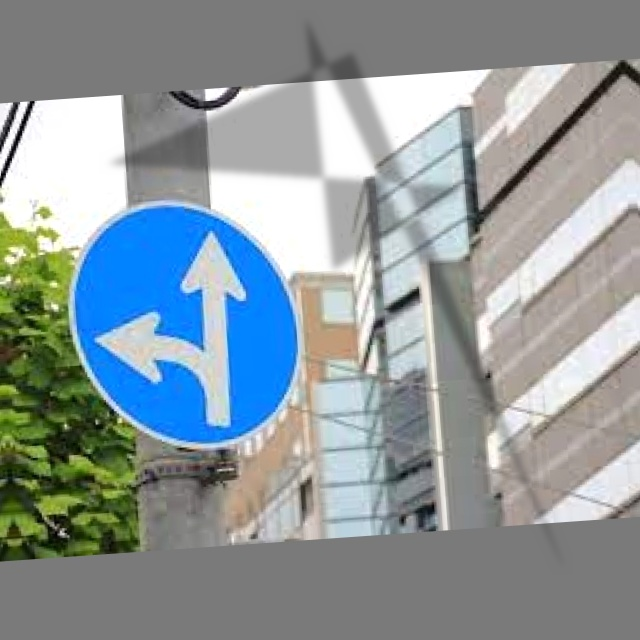Compulsory_Ahead_or_Turn_Left: (65, 194, 306, 456)
